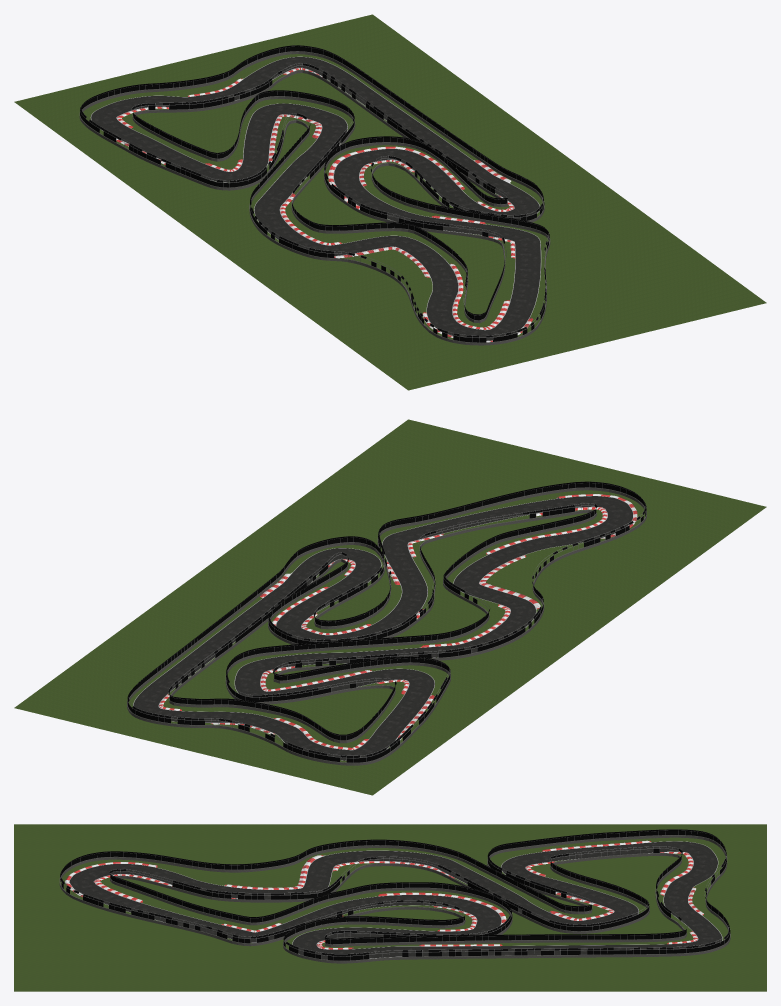
Rendered from pista_1_REWORK.glb.
The picture shows the model from 3 angles, top to bottom: view 1: azimuth 30°, elevation 25°; view 2: azimuth 150°, elevation 25°; view 3: azimuth 270°, elevation 25°; orthographic projection. The views are drawn at different scales.
Parts seen in each view (by area): view 1: terrain, pista, barrera.001, barrera; view 2: terrain, pista, barrera.001, barrera; view 3: terrain, pista, barrera.001, barrera.
Part boxes in pixels (x1,y1,x2,y2): terrain: (14, 14, 766, 390); pista: (90, 56, 541, 342); barrera.001: (79, 45, 550, 345); barrera: (131, 63, 508, 323); terrain: (14, 419, 766, 795); pista: (133, 494, 637, 760); barrera.001: (127, 481, 646, 765); barrera: (168, 503, 597, 743); terrain: (14, 824, 766, 991); pista: (65, 840, 722, 959); barrera.001: (59, 829, 730, 963); barrera: (109, 846, 687, 946).
Bounding box in the file's own units: 245 × 6.76 × 466.
10 materials, 8 textured.
